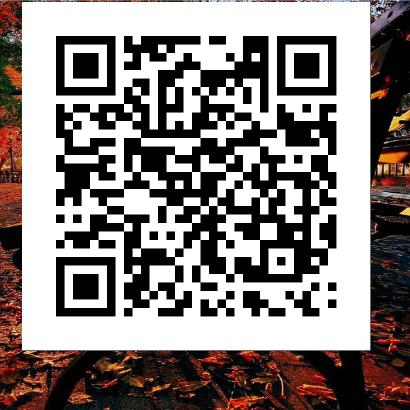qr_code: (22, 2, 370, 350)
